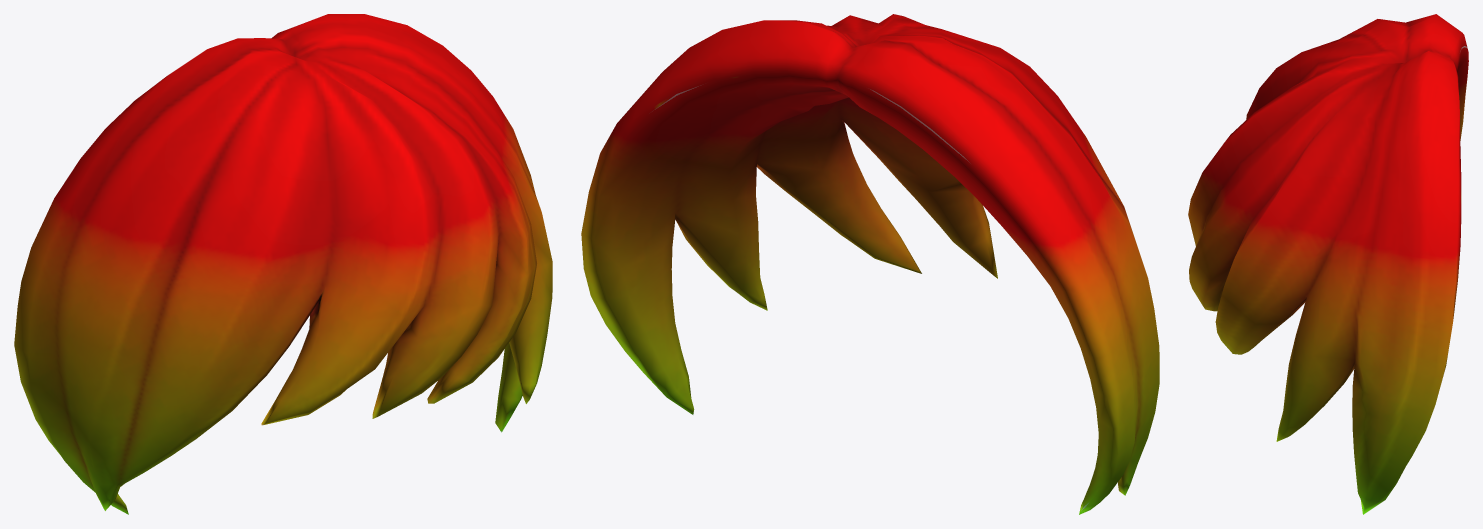
The model's file is HairFront_Messy.obj.
3 views of the same model, side by side, from view 1: azimuth 30°, elevation 25°; view 2: azimuth 150°, elevation 25°; view 3: azimuth 270°, elevation 25° (orthographic). The views are drawn at different scales.
Parts seen in each view (by area): view 1: HairFront_Messy_0; view 2: HairFront_Messy_0; view 3: HairFront_Messy_0.
Boxes of the visible parts, bbox=[...] form: HairFront_Messy_0: bbox=[14, 14, 552, 514]; HairFront_Messy_0: bbox=[581, 14, 1159, 514]; HairFront_Messy_0: bbox=[1188, 14, 1468, 514].
Size of the model in its own units: 0.2278 by 0.1839 by 0.1193.
1 material, 1 textured.
